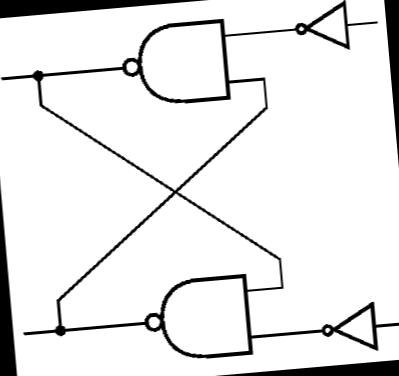nand: (132, 262, 264, 372), (110, 9, 243, 116)
not: (267, 0, 367, 62), (307, 290, 395, 360)
